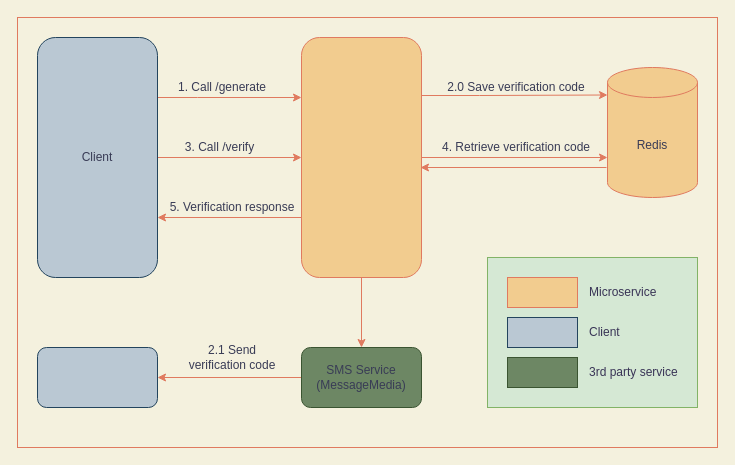
Image size: 735x465. Some labels were removed from this diagram. The shapes that lost their labels are listed below. From the top down, each one's centre as x and y in pixels, then its label:
At (361,157): "API".
At (97,377): "Mobile Device".
